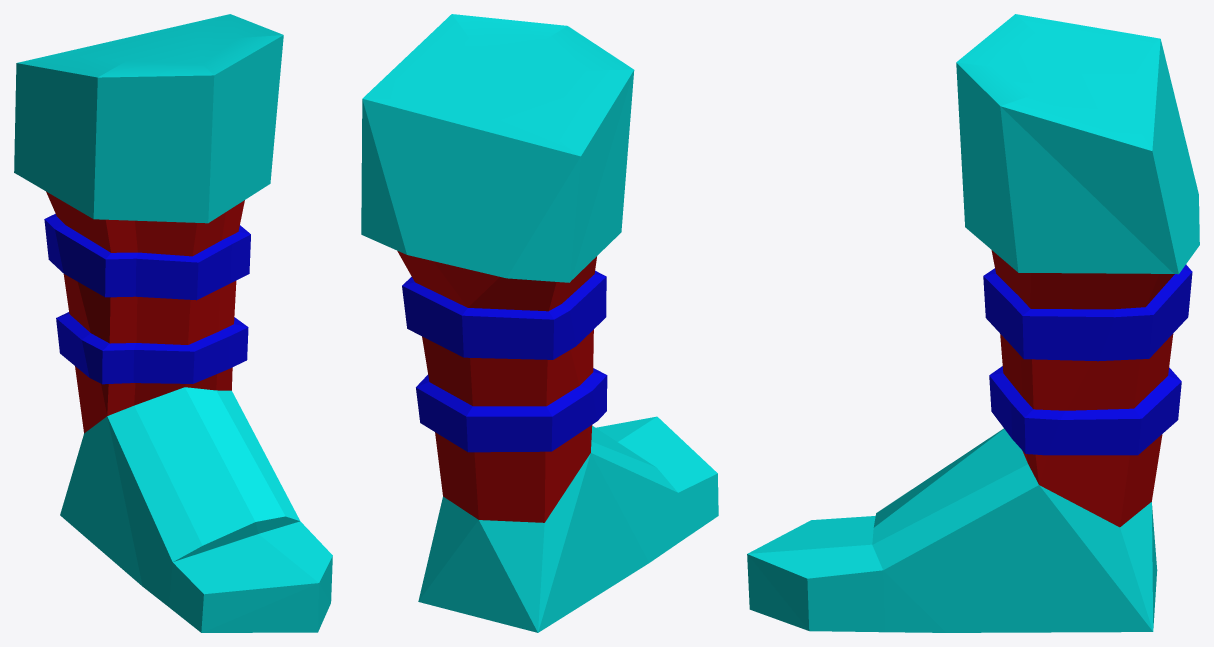
File: Chr_LegLeft_Male_Static_07.fbx
3 renders of one model, left to right at view 1: azimuth 30°, elevation 25°; view 2: azimuth 150°, elevation 25°; view 3: azimuth 270°, elevation 25°, orthographic. The views are drawn at different scales.
Parts seen in each view (by area): view 1: Chr_LegLeft_Male_07; view 2: Chr_LegLeft_Male_07; view 3: Chr_LegLeft_Male_07.
Part boxes in pixels (bbox=[...]): Chr_LegLeft_Male_07: bbox=[14, 14, 332, 632]; Chr_LegLeft_Male_07: bbox=[361, 14, 718, 632]; Chr_LegLeft_Male_07: bbox=[747, 14, 1199, 632].
Size of the model in its own units: 18.16 by 40.88 by 30.71.
